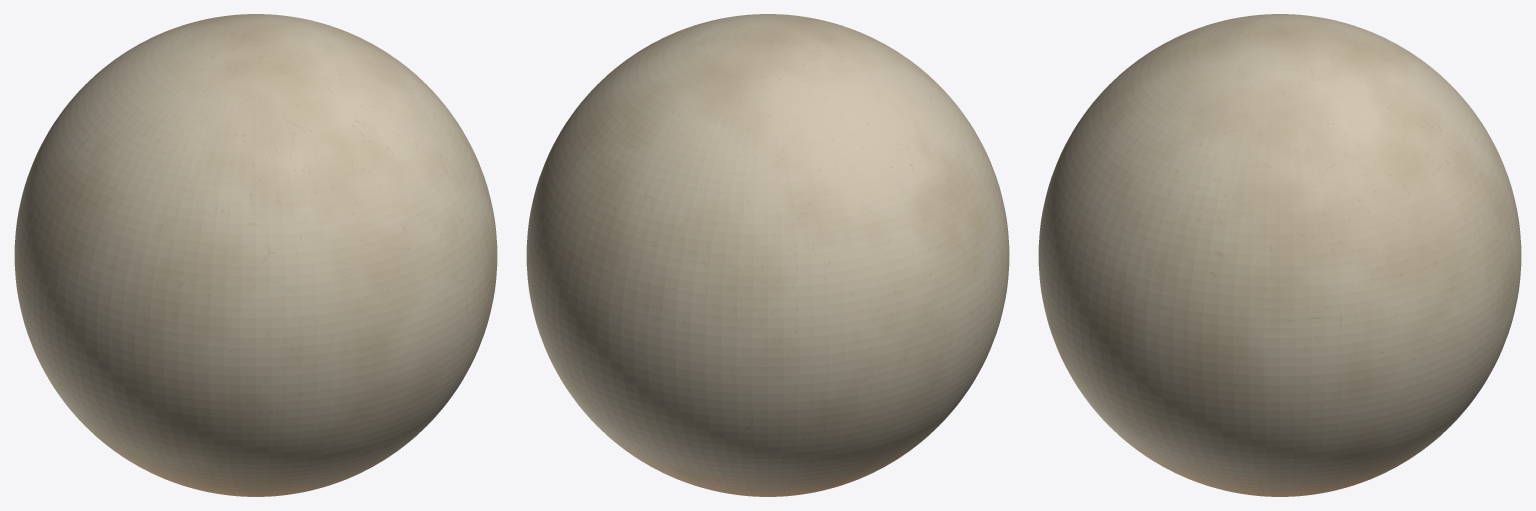
File: orb_glaze.glb
3 views of the same model, side by side, from view 1: azimuth 30°, elevation 25°; view 2: azimuth 150°, elevation 25°; view 3: azimuth 270°, elevation 25° (orthographic).
Visible parts, largest first — view 1: part0; view 2: part0; view 3: part0.
Boxes of the visible parts, box(x1,y1,x2,y2) form: part0: box(14, 14, 497, 496); part0: box(526, 14, 1009, 496); part0: box(1038, 14, 1521, 496).
Size of the model in its own units: 0.1 by 0.1 by 0.1.
Materials: 1 (1 with a texture image).
